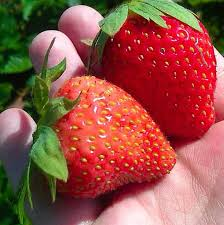ripe: (24, 71, 184, 199), (86, 2, 218, 144)
